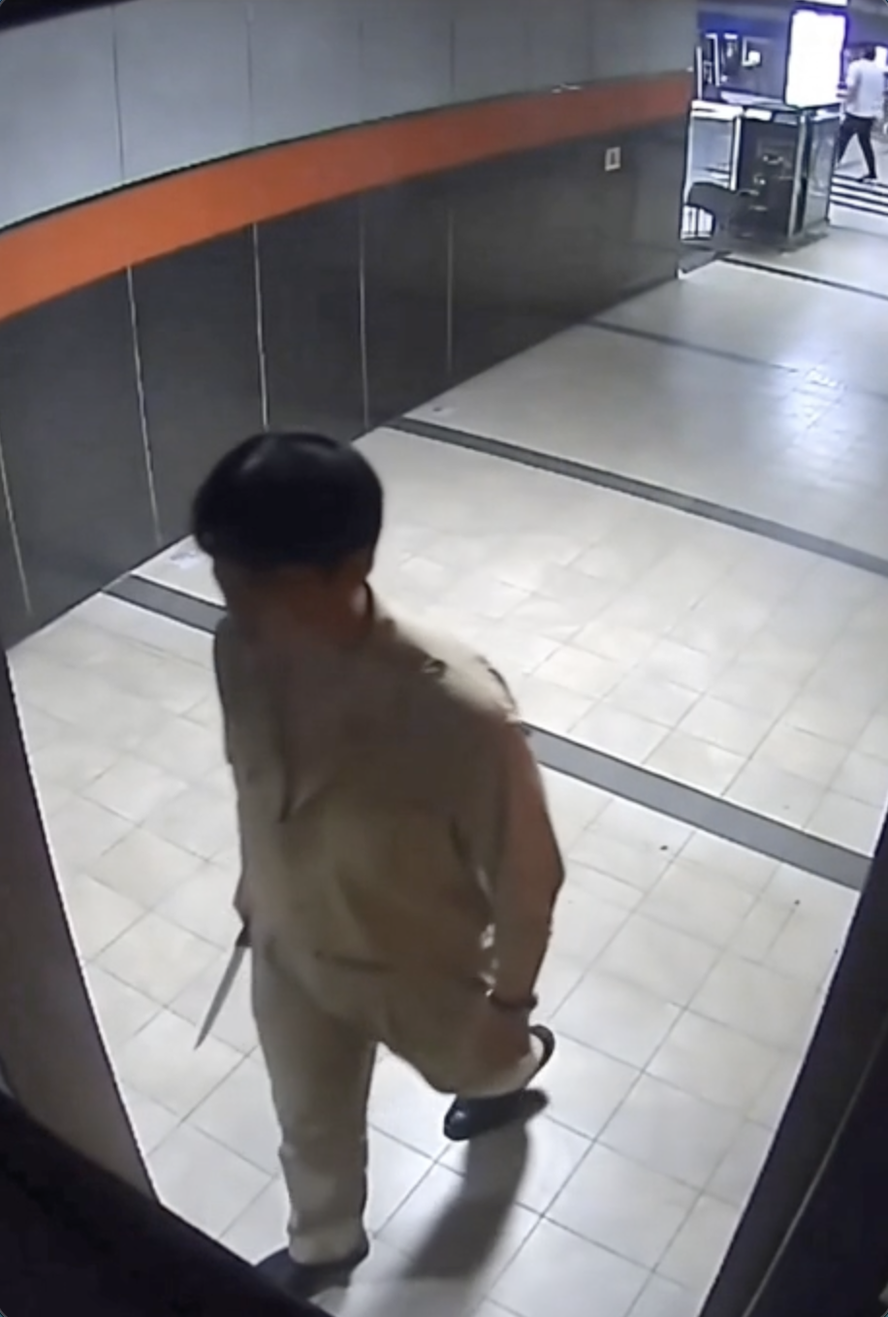Heavy Gun: (189, 422, 582, 1289)
Knife: (194, 874, 272, 1048)
